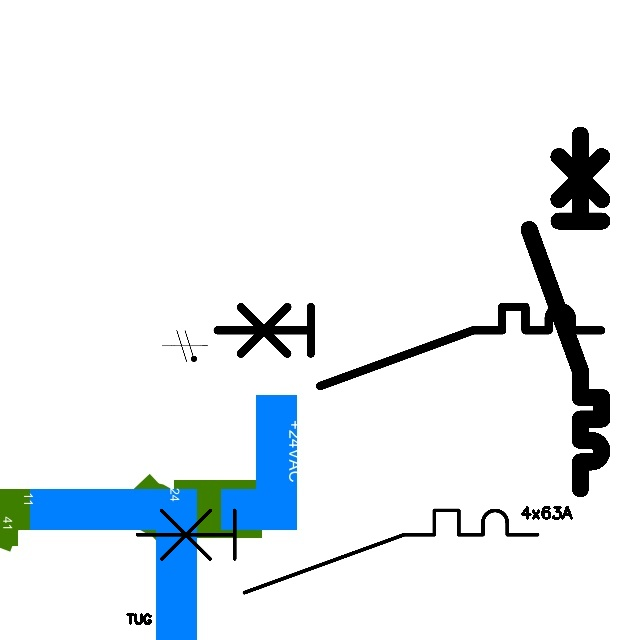interruptor_termomagnetico: (127, 500, 548, 603), (207, 297, 610, 395), (520, 126, 611, 498)
